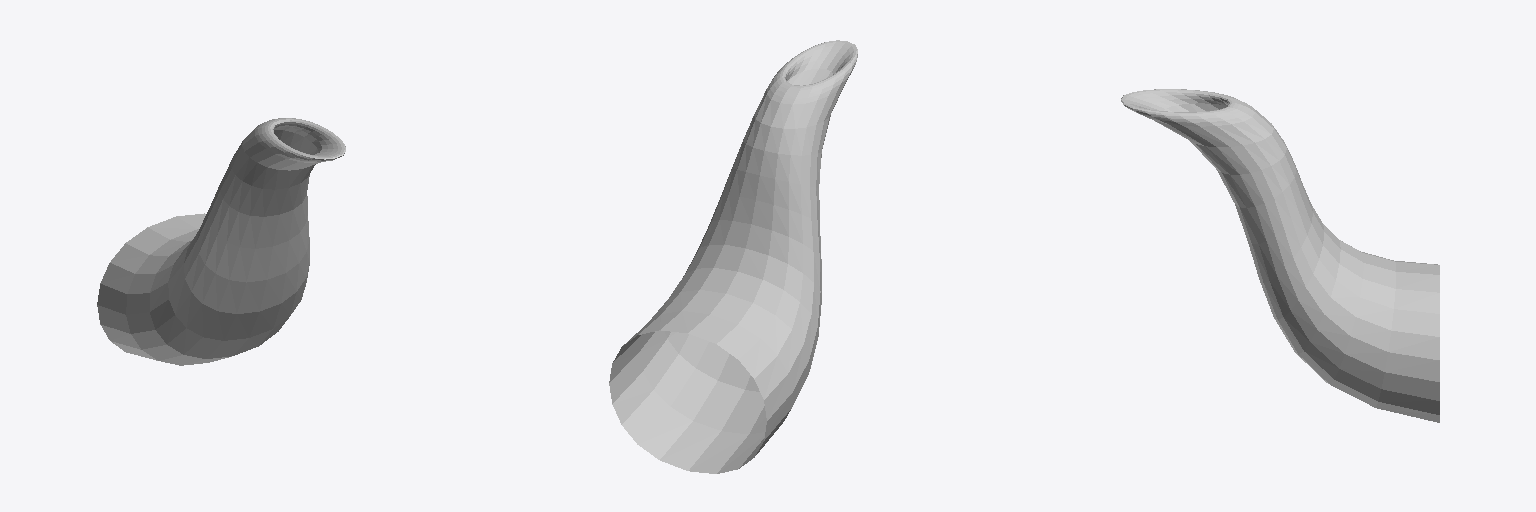
The model's file is original-4.obj.
3 views of the same model, side by side, from view 1: azimuth 30°, elevation 25°; view 2: azimuth 150°, elevation 25°; view 3: azimuth 270°, elevation 25° (orthographic).
Visible parts, largest first — view 1: mesh5/mesh5-geometry#mesh5-geometry; view 2: mesh5/mesh5-geometry#mesh5-geometry; view 3: mesh5/mesh5-geometry#mesh5-geometry.
Boxes of the visible parts, box(x1,y1,x2,y2) form: mesh5/mesh5-geometry#mesh5-geometry: box(97, 118, 345, 365); mesh5/mesh5-geometry#mesh5-geometry: box(609, 40, 857, 473); mesh5/mesh5-geometry#mesh5-geometry: box(1121, 89, 1439, 422).
Bounding box in the file's own units: 0.2955 × 0.5603 × 0.5176.